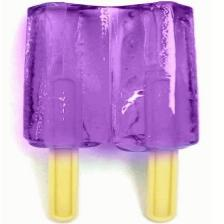purple: (24, 2, 198, 151)
